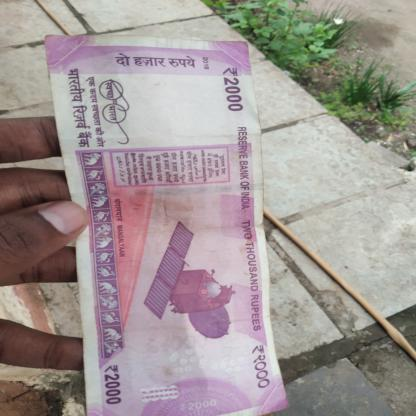New2000Back: (47, 51, 267, 414)
